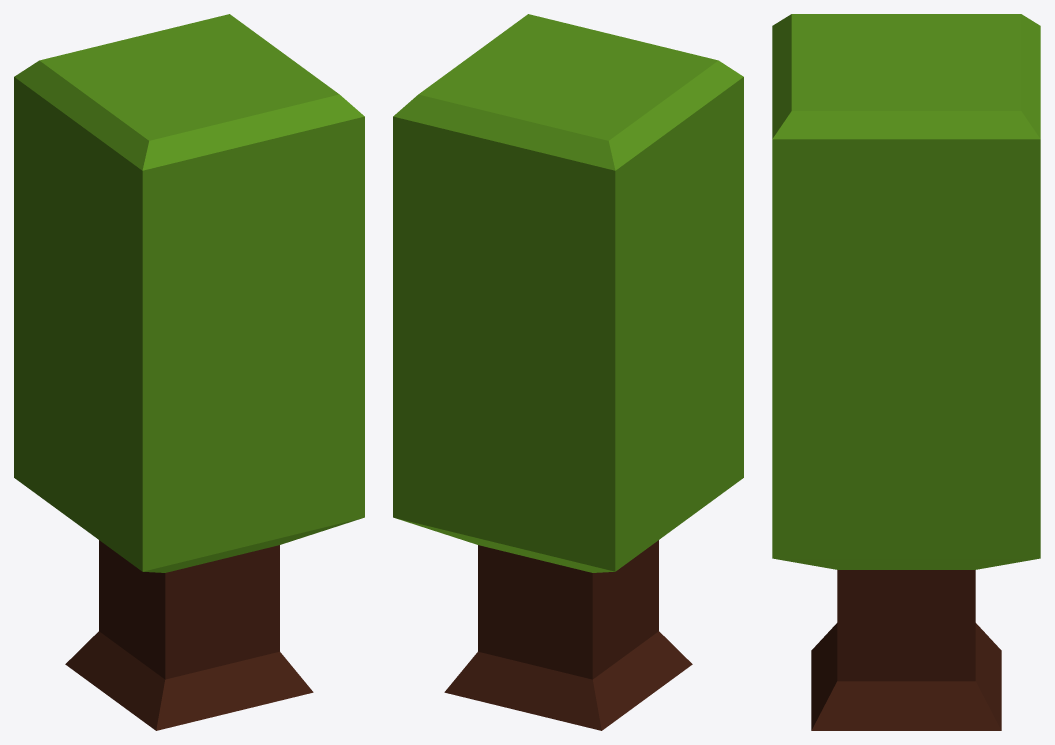
3 views of the same model, side by side, from view 1: azimuth 30°, elevation 25°; view 2: azimuth 150°, elevation 25°; view 3: azimuth 270°, elevation 25° (orthographic). The views are drawn at different scales.
Parts seen in each view (by area): view 1: Arbol1; view 2: Arbol1; view 3: Arbol1.
Boxes of the visible parts, x1,y1,x2,y2 form: Arbol1: (14, 14, 364, 730); Arbol1: (393, 14, 743, 730); Arbol1: (772, 14, 1040, 730).
Size of the model in its own units: 80 by 207 by 80.
